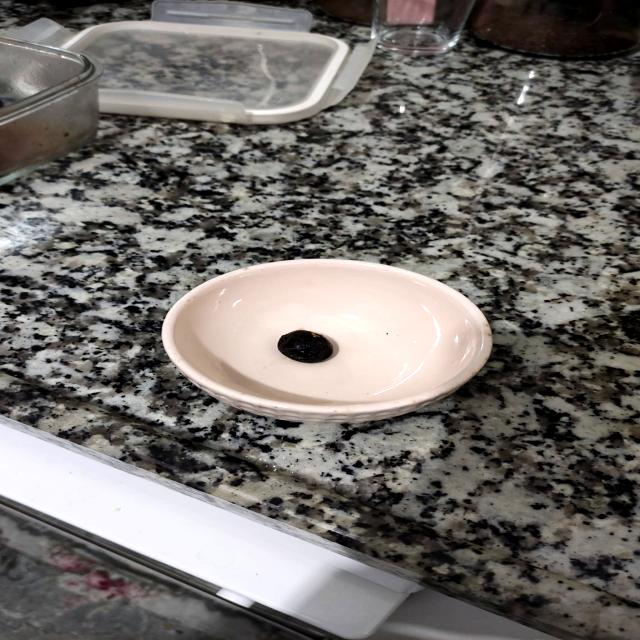olive: (266, 320, 350, 370)
